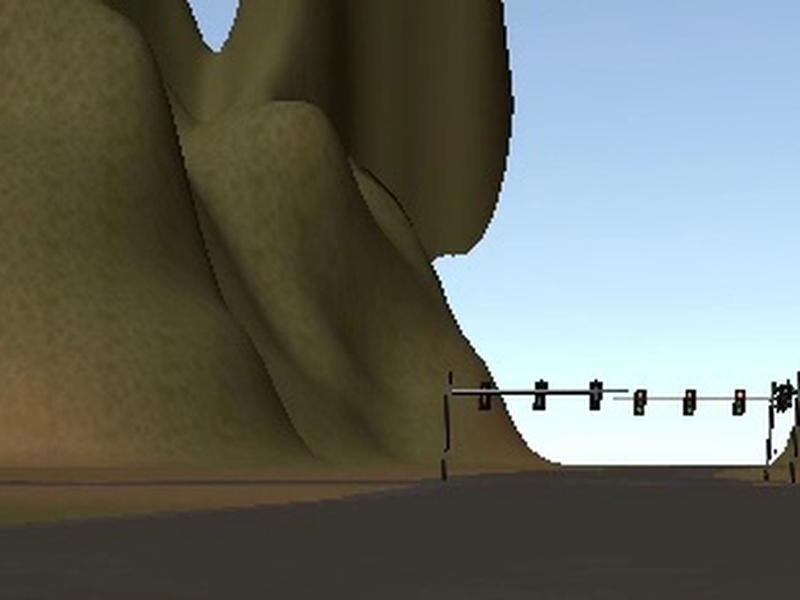Red: (682, 388, 697, 416), (731, 388, 746, 416), (633, 389, 646, 416)
